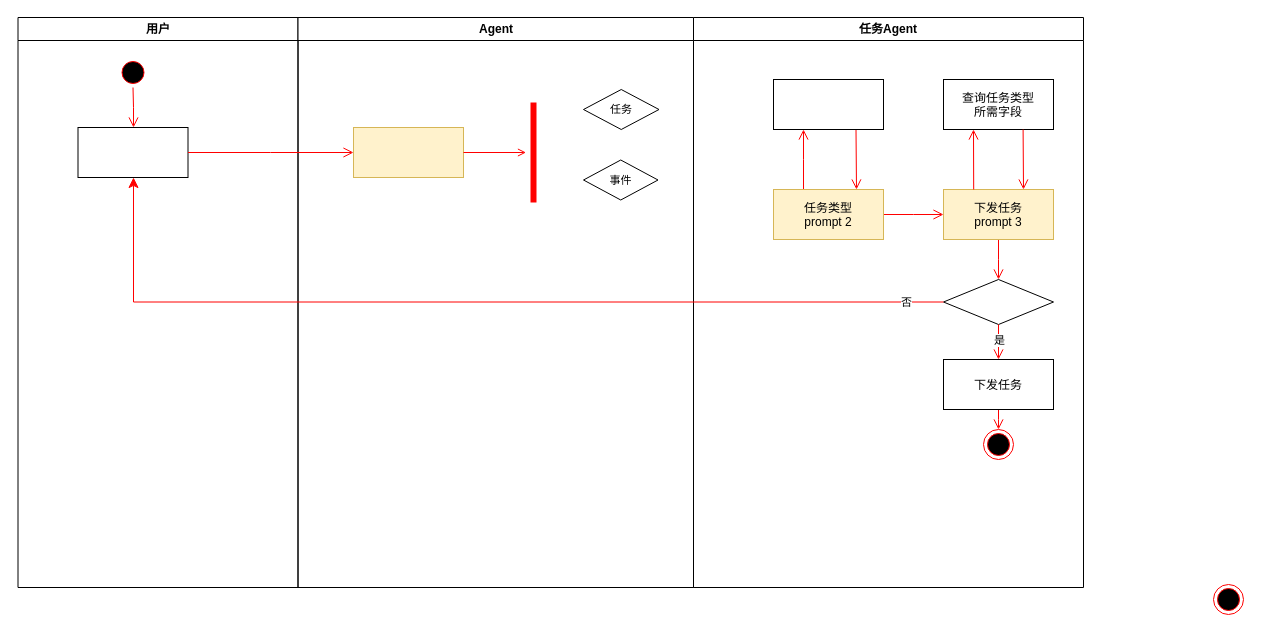
This 1261x632 diagram has some shape labels left out. The centre of each missing label's shape, as x and y in pixels:
任务字段 是否完整: the point at 998,301
判断命令类型 prompt 1: the point at 408,152
查询任务分类: the point at 828,104
用户输入命令: the point at 132,152
